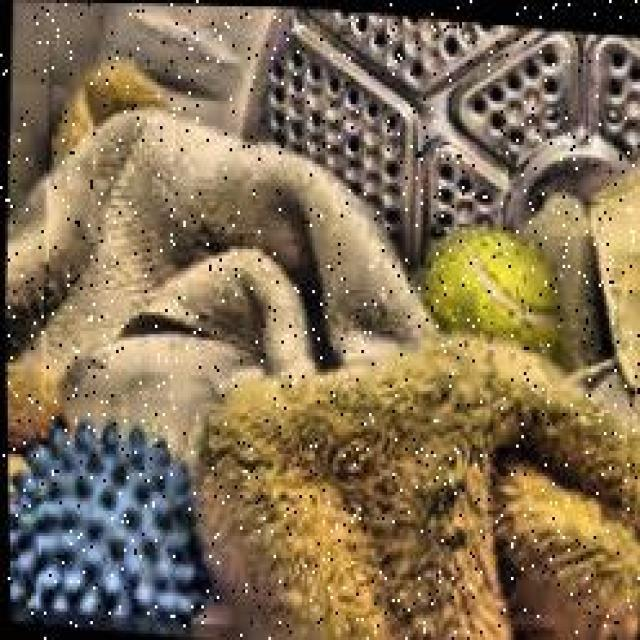tennis-ball: (422, 224, 574, 378)
